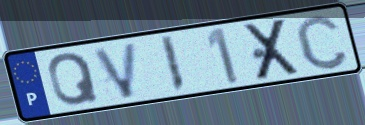1: (205, 25, 242, 88)
C: (292, 12, 351, 72)
I: (158, 33, 188, 95)
Q: (46, 51, 102, 108)
V: (90, 40, 140, 102)
X: (242, 16, 304, 83)
